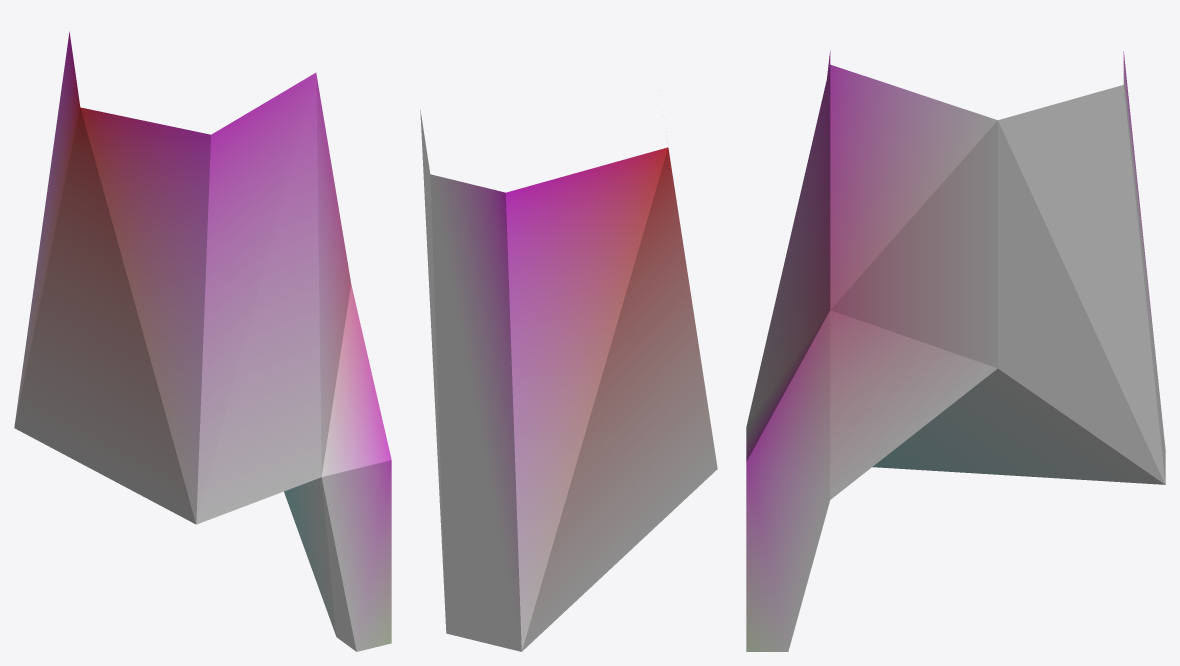
The picture shows the model from 3 angles, left to right: view 1: azimuth 30°, elevation 25°; view 2: azimuth 150°, elevation 25°; view 3: azimuth 270°, elevation 25°; orthographic projection. The views are drawn at different scales.
Visible parts, largest first — view 1: model_1190; view 2: model_1190; view 3: model_1190.
Boxes of the visible parts, bbox=[...] form: model_1190: bbox=[14, 31, 391, 651]; model_1190: bbox=[420, 110, 717, 651]; model_1190: bbox=[746, 50, 1165, 651].
Bounding box in the file's own units: 6 × 15 × 10.
